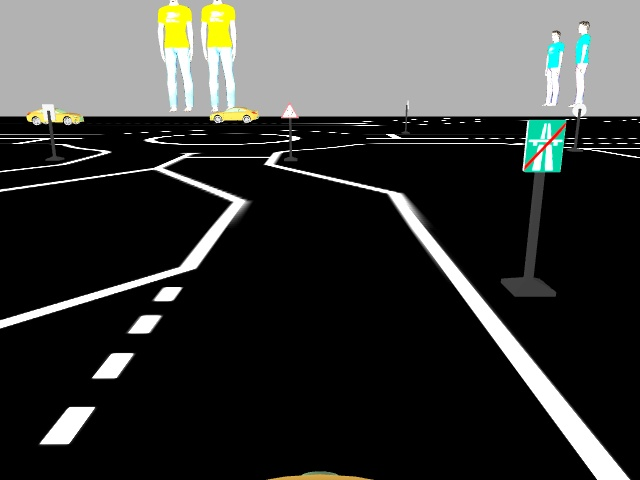HighwayExit: (524, 119, 565, 170)
